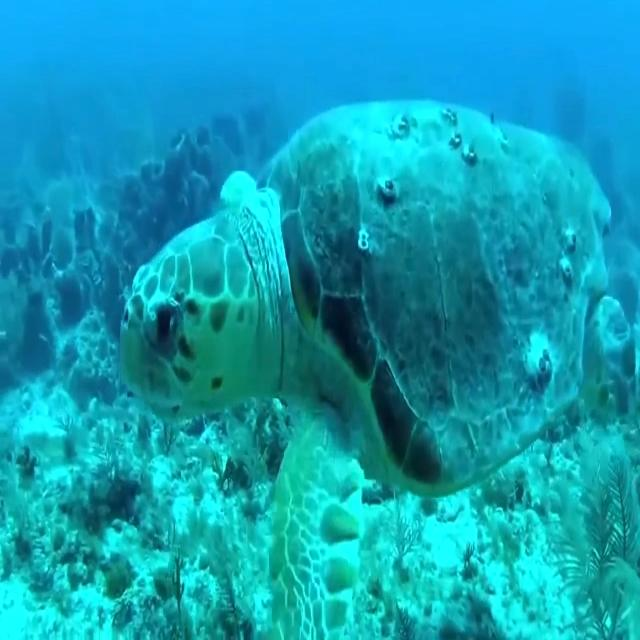Sea turtle: (120, 93, 616, 640)
